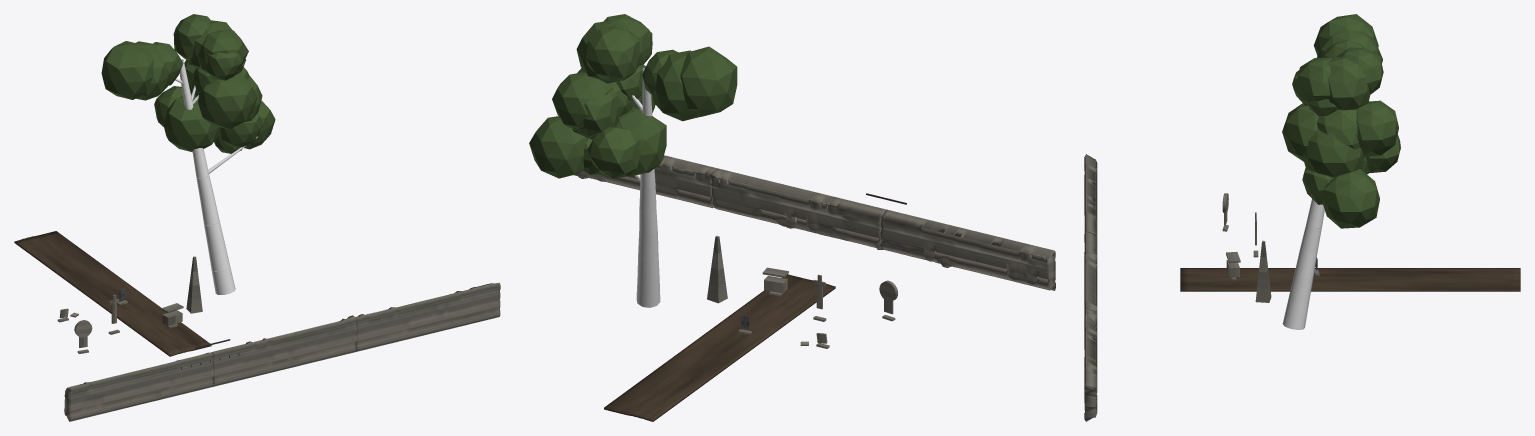
Rendered from tls_env_106_kit_graveyard_v2.fbx.
The picture shows the model from 3 angles, left to right: view 1: azimuth 30°, elevation 25°; view 2: azimuth 150°, elevation 25°; view 3: azimuth 270°, elevation 25°; orthographic projection. The views are drawn at different scales.
Parts seen in each view (by area): view 1: TLS_Cem_Path, TLS_Cem_Wall0, TLS_Cem_Wall1, TLS_Cem_Wall2, TLS_Cem_Yew_Trunk, TLS_Cem_Yew_Leaves3_0, TLS_Cem_Yew_Leaves6_2, TLS_Cem_Yew_Leaves1_0, TLS_Cem_Yew_Leaves2_2, TLS_Cem_Yew_Leaves0_2, TLS_Cem_Yew_Leaves4_2, TLS_Cem_Yew_Leaves3_2 (+6 smaller); view 2: TLS_Cem_Path, TLS_Cem_Wall0, TLS_Cem_Wall1, TLS_Cem_Yew_Leaves3_0, TLS_Cem_Yew_Trunk, TLS_Cem_Wall2, TLS_Cem_Yew_Leaves4_1, TLS_Cem_Yew_Leaves0_2, TLS_Cem_Yew_Leaves1_1, TLS_Cem_Yew_Leaves5_2, TLS_Cem_Yew_Leaves1_0, TLS_Cem_Yew_Leaves3_2 (+6 smaller); view 3: TLS_Cem_Path, TLS_Cem_Yew_Leaves4_1, TLS_Cem_Yew_Trunk, TLS_Cem_Yew_Leaves6_1, TLS_Cem_Yew_Leaves5_2, TLS_Cem_Yew_Leaves0_1, TLS_Cem_Wall2, TLS_Cem_Yew_Leaves6_2, TLS_Cem_Yew_Leaves2_2, TLS_Cem_Yew_Leaves5_1, TLS_Cem_Wall1, TLS_Cem_Wall0 (+6 smaller).
Part boxes in pixels (x1,y1,x2,y2): TLS_Cem_Path: [14, 231, 211, 356]; TLS_Cem_Wall0: [64, 352, 213, 421]; TLS_Cem_Wall1: [211, 315, 356, 386]; TLS_Cem_Wall2: [356, 282, 500, 351]; TLS_Cem_Yew_Trunk: [179, 59, 235, 294]; TLS_Cem_Yew_Leaves3_0: [101, 41, 153, 99]; TLS_Cem_Yew_Leaves6_2: [198, 72, 257, 129]; TLS_Cem_Yew_Leaves1_0: [163, 93, 220, 152]; TLS_Cem_Yew_Leaves2_2: [198, 29, 248, 72]; TLS_Cem_Yew_Leaves0_2: [173, 14, 211, 59]; TLS_Cem_Yew_Leaves4_2: [220, 113, 263, 147]; TLS_Cem_Yew_Leaves3_2: [136, 41, 169, 100]; TLS_Cem_Path: [604, 274, 835, 421]; TLS_Cem_Wall0: [879, 209, 1055, 290]; TLS_Cem_Wall1: [709, 168, 885, 249]; TLS_Cem_Yew_Leaves3_0: [680, 46, 737, 116]; TLS_Cem_Yew_Trunk: [636, 67, 660, 307]; TLS_Cem_Wall2: [573, 155, 716, 208]; TLS_Cem_Yew_Leaves4_1: [529, 116, 588, 178]; TLS_Cem_Yew_Leaves0_2: [584, 25, 639, 81]; TLS_Cem_Yew_Leaves1_1: [587, 126, 641, 178]; TLS_Cem_Yew_Leaves5_2: [552, 72, 612, 131]; TLS_Cem_Yew_Leaves1_0: [613, 108, 666, 176]; TLS_Cem_Yew_Leaves3_2: [652, 50, 700, 121]; TLS_Cem_Path: [1180, 268, 1520, 291]; TLS_Cem_Yew_Leaves4_1: [1321, 169, 1379, 228]; TLS_Cem_Yew_Trunk: [1282, 199, 1324, 329]; TLS_Cem_Yew_Leaves6_1: [1302, 128, 1364, 177]; TLS_Cem_Yew_Leaves5_2: [1356, 100, 1398, 156]; TLS_Cem_Yew_Leaves0_1: [1327, 57, 1370, 110]; TLS_Cem_Wall2: [1084, 307, 1097, 421]; TLS_Cem_Yew_Leaves6_2: [1282, 103, 1318, 161]; TLS_Cem_Yew_Leaves2_2: [1298, 57, 1332, 105]; TLS_Cem_Yew_Leaves5_1: [1317, 109, 1360, 149]; TLS_Cem_Wall1: [1084, 231, 1097, 337]; TLS_Cem_Wall0: [1084, 154, 1097, 255].
Size of the model in its own units: 1448 by 813 by 1154.
Materials: 6 (4 with a texture image).
